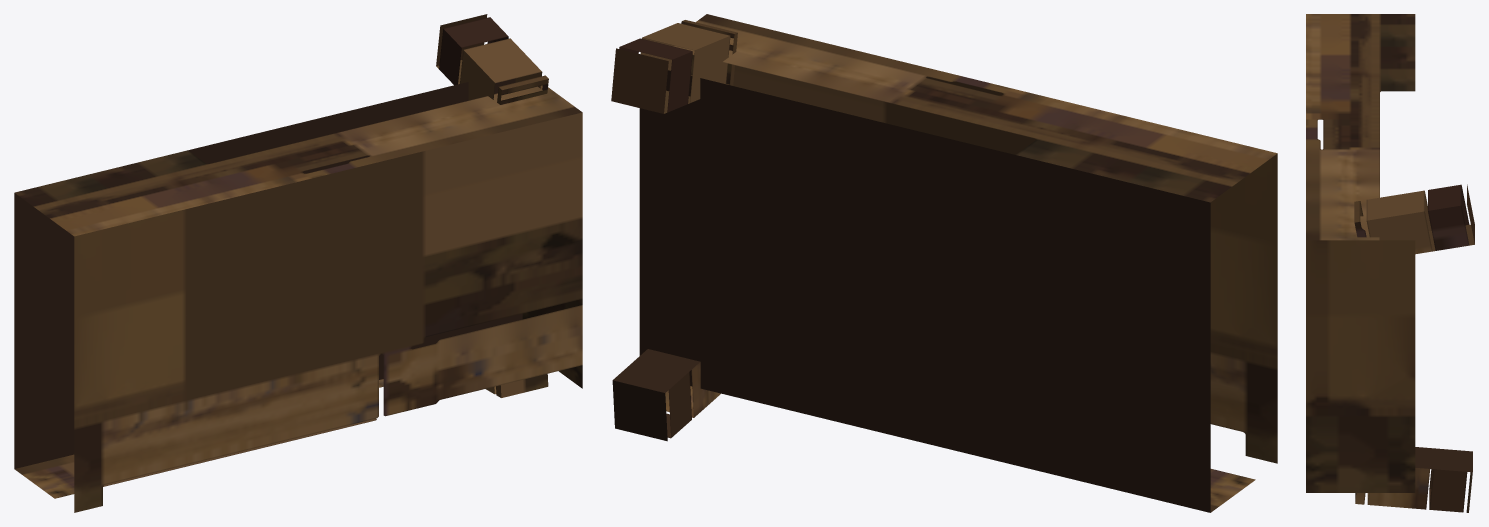
File: section-3.obj
The picture shows the model from 3 angles, left to right: view 1: azimuth 30°, elevation 25°; view 2: azimuth 150°, elevation 25°; view 3: azimuth 270°, elevation 25°; orthographic projection. The views are drawn at different scales.
Size of the model in its own units: 0.8765 by 0.5565 by 0.2759.
